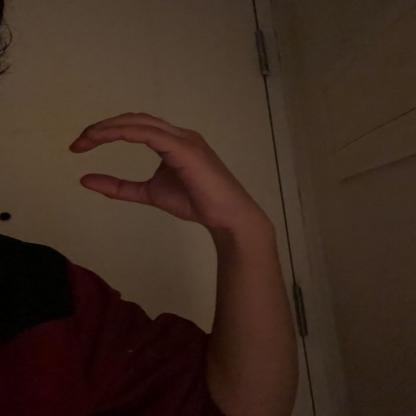C: (60, 106, 234, 227)
